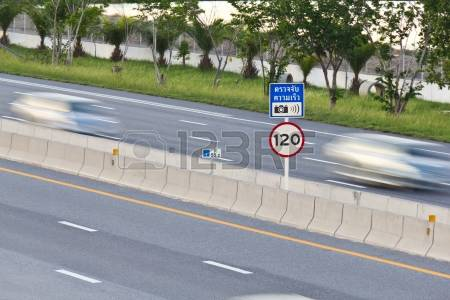Speed_limit_120km: (269, 122, 305, 156)
